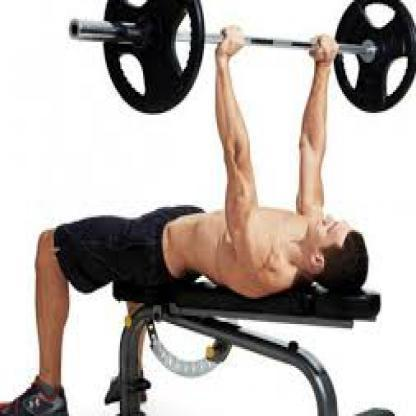Barbell: (65, 9, 87, 47)
